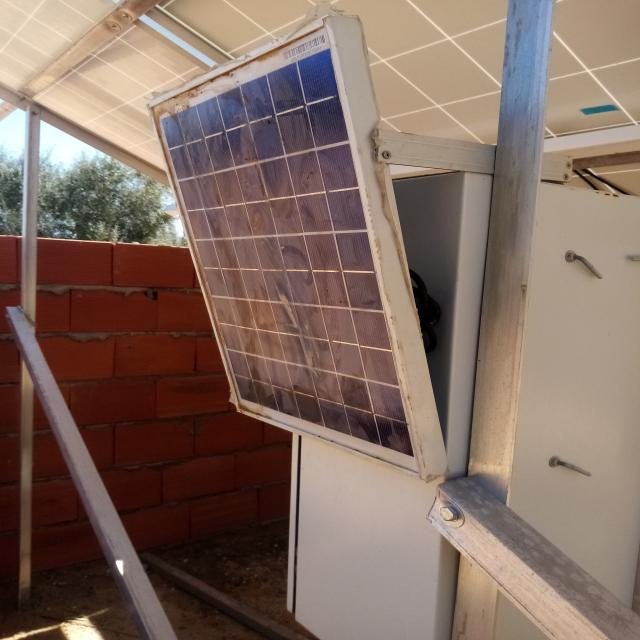faulty: (147, 19, 422, 476)
